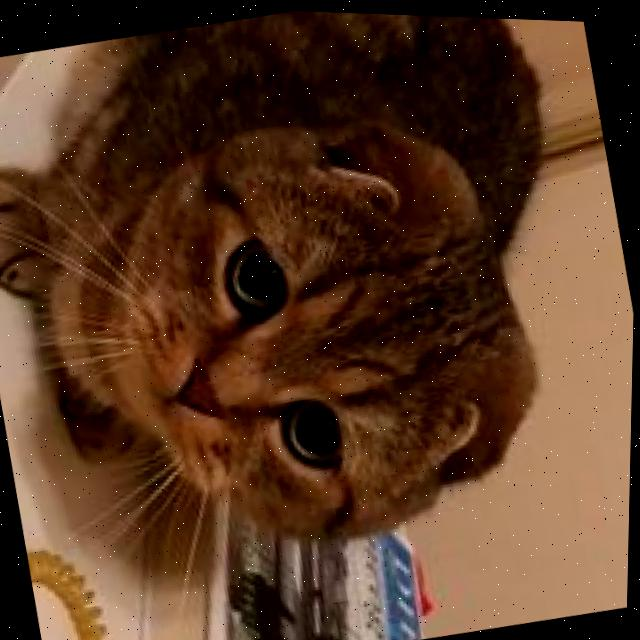Scottish Fold: (0, 0, 632, 616)
